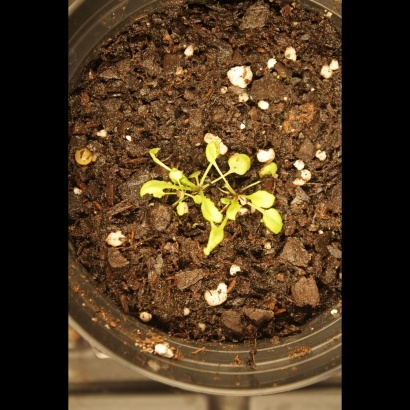leaf: (132, 176, 169, 204), (225, 151, 260, 180), (257, 208, 290, 238), (255, 156, 288, 186), (194, 190, 223, 224), (201, 226, 232, 256), (247, 185, 279, 210), (196, 135, 224, 161), (162, 161, 190, 185), (225, 199, 248, 223), (171, 198, 194, 221), (187, 165, 210, 188)
